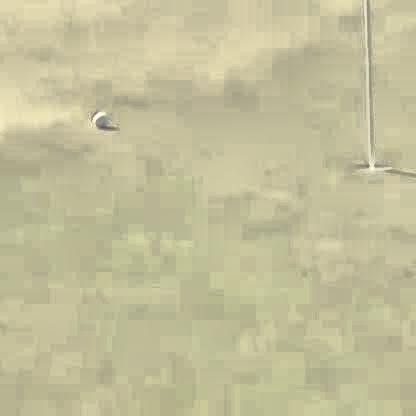golfball: (90, 109, 108, 127)
